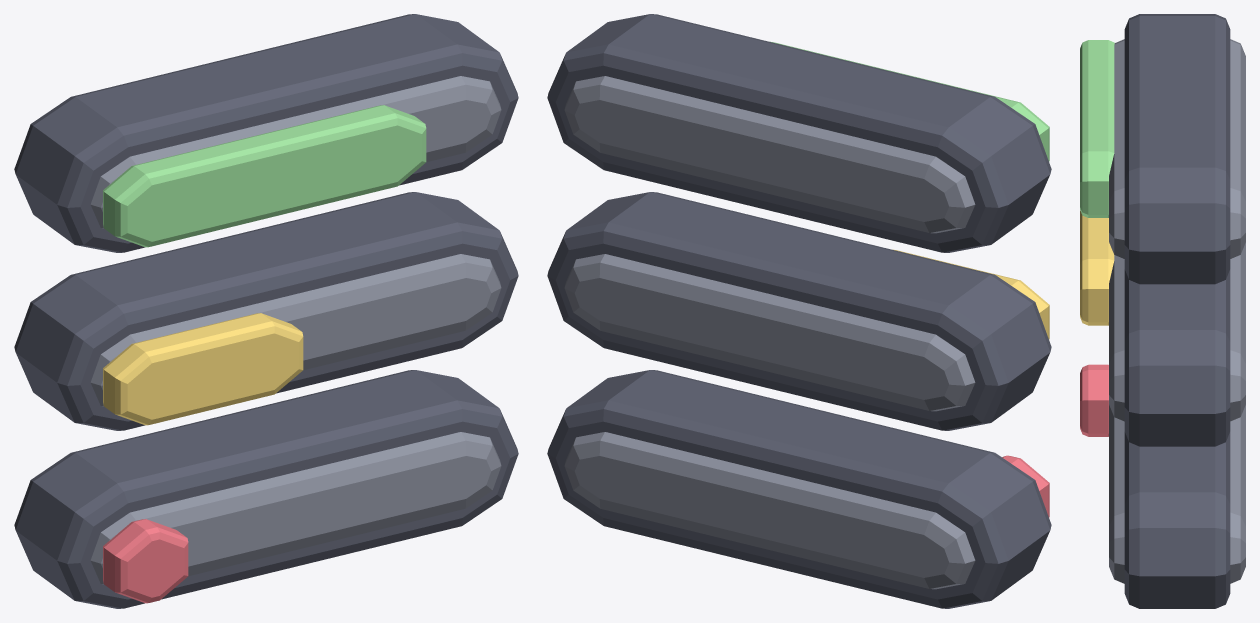
File: game-ui-icon-library-rank-bar-3802bf86__19016.glb
3 renders of one model, left to right at view 1: azimuth 30°, elevation 25°; view 2: azimuth 150°, elevation 25°; view 3: azimuth 270°, elevation 25°, orthographic. The views are drawn at different scales.
Parts seen in each view (by area): view 1: rank-bar; view 2: rank-bar; view 3: rank-bar.
Part boxes in pixels (x1,y1,x2,y2): rank-bar: (14, 14, 518, 608); rank-bar: (547, 14, 1051, 608); rank-bar: (1080, 14, 1245, 608).
Size of the model in its own units: 0.94 by 0.94 by 0.3219.
